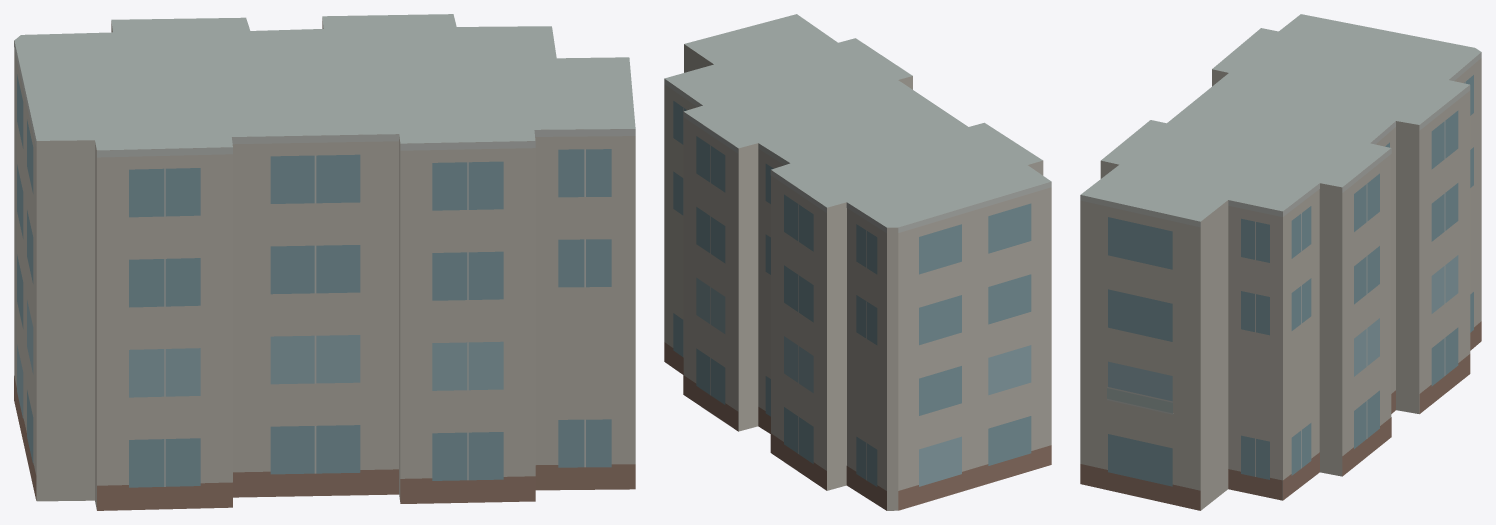
Rendered from survey-upis-32952876.glb.
3 views of the same model, side by side, from view 1: azimuth 30°, elevation 25°; view 2: azimuth 150°, elevation 25°; view 3: azimuth 270°, elevation 25° (orthographic). The views are drawn at different scales.
Visible parts, largest first — view 1: survey-upis-32952876.tmp; view 2: survey-upis-32952876.tmp; view 3: survey-upis-32952876.tmp.
Boxes of the visible parts, x1=… form: survey-upis-32952876.tmp: x1=14, y1=14, x2=635, y2=510; survey-upis-32952876.tmp: x1=664, y1=14, x2=1051, y2=510; survey-upis-32952876.tmp: x1=1080, y1=14, x2=1481, y2=510.
Size of the model in its own units: 18.95 by 12.3 by 15.47.
